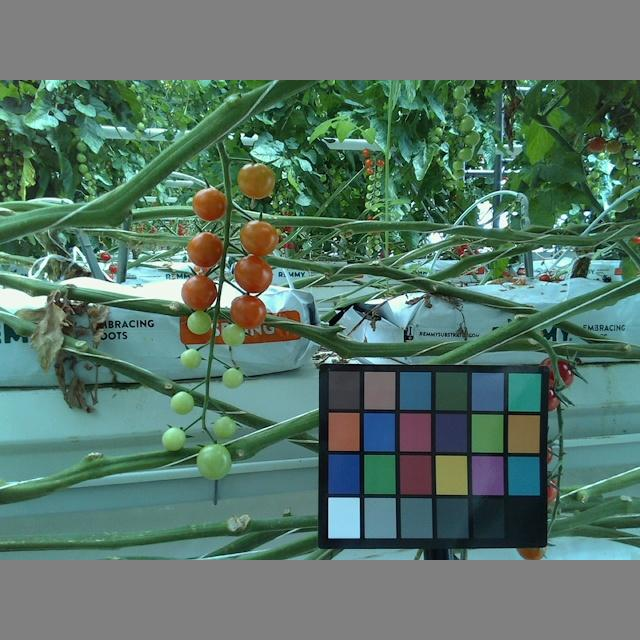green: (197, 443, 233, 482), (185, 308, 212, 336), (168, 389, 194, 416), (212, 413, 239, 438), (160, 426, 187, 450), (222, 323, 246, 347), (222, 367, 246, 390), (178, 347, 203, 369)
pink: (233, 254, 274, 294), (237, 219, 280, 257), (185, 230, 224, 269), (189, 186, 231, 222), (236, 161, 276, 197), (228, 293, 266, 330), (182, 274, 220, 309)
